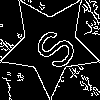S: (25, 19, 79, 74)
